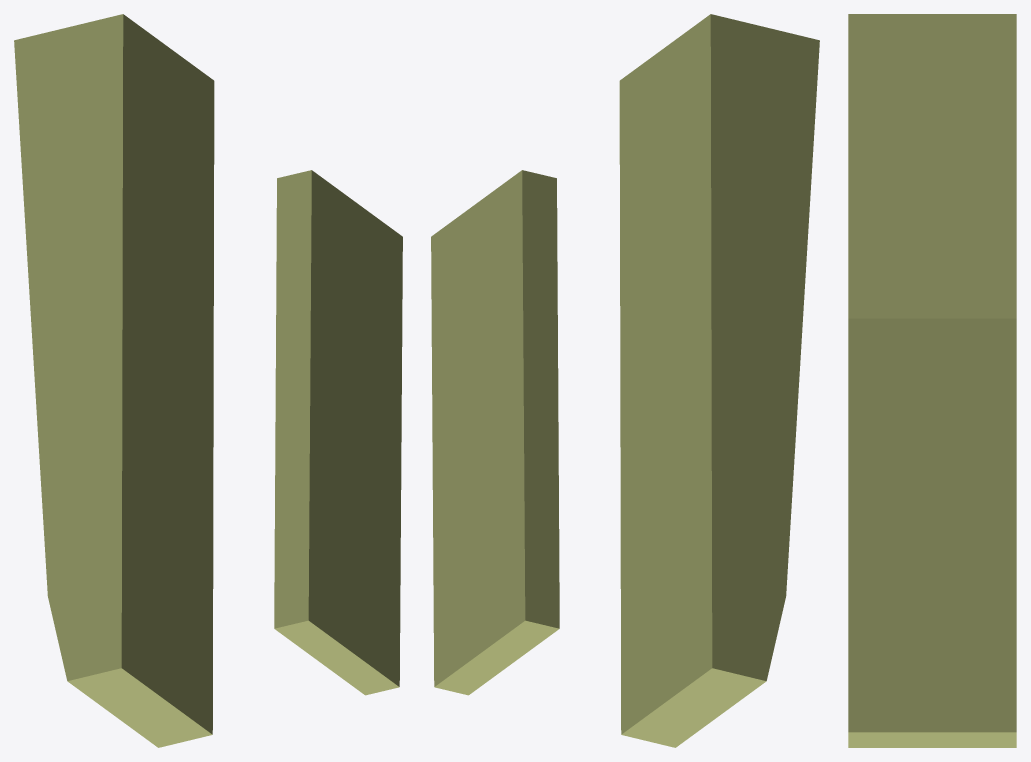
3 views of the same model, side by side, from view 1: azimuth 30°, elevation 25°; view 2: azimuth 150°, elevation 25°; view 3: azimuth 270°, elevation 25° (orthographic). The views are drawn at different scales.
Visible parts, largest first — view 1: 0_0_1_1_2_0_3_3_3; view 2: 0_0_1_1_2_0_3_3_3; view 3: 0_0_1_1_2_0_3_3_3.
Boxes of the visible parts, <box> form: 0_0_1_1_2_0_3_3_3: <box>14,14,402,747</box>; 0_0_1_1_2_0_3_3_3: <box>431,14,819,747</box>; 0_0_1_1_2_0_3_3_3: <box>848,14,1016,747</box>.
Bounding box in the file's own units: 16.98 × 35.64 × 9.
